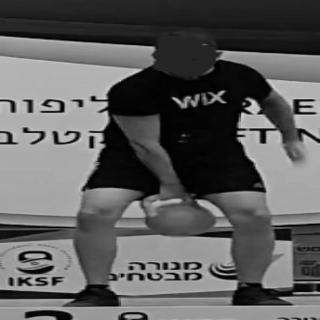kettlebell: (126, 192, 235, 240)
